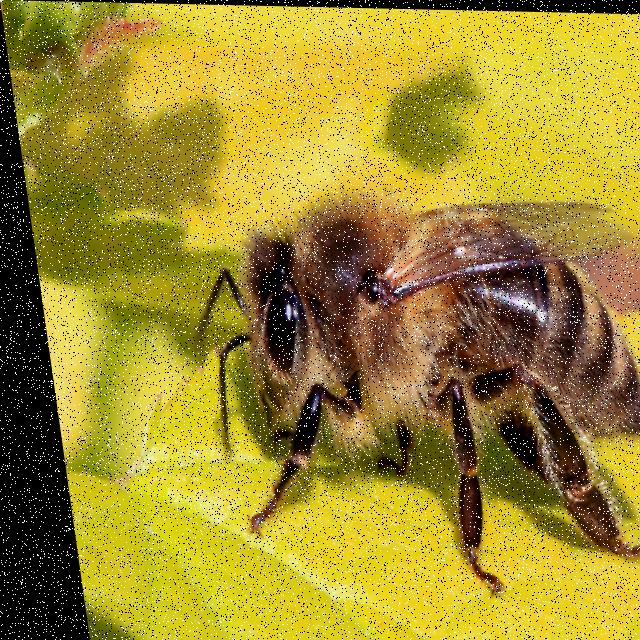Apis-mellifera-scutellata: (144, 151, 640, 614)
